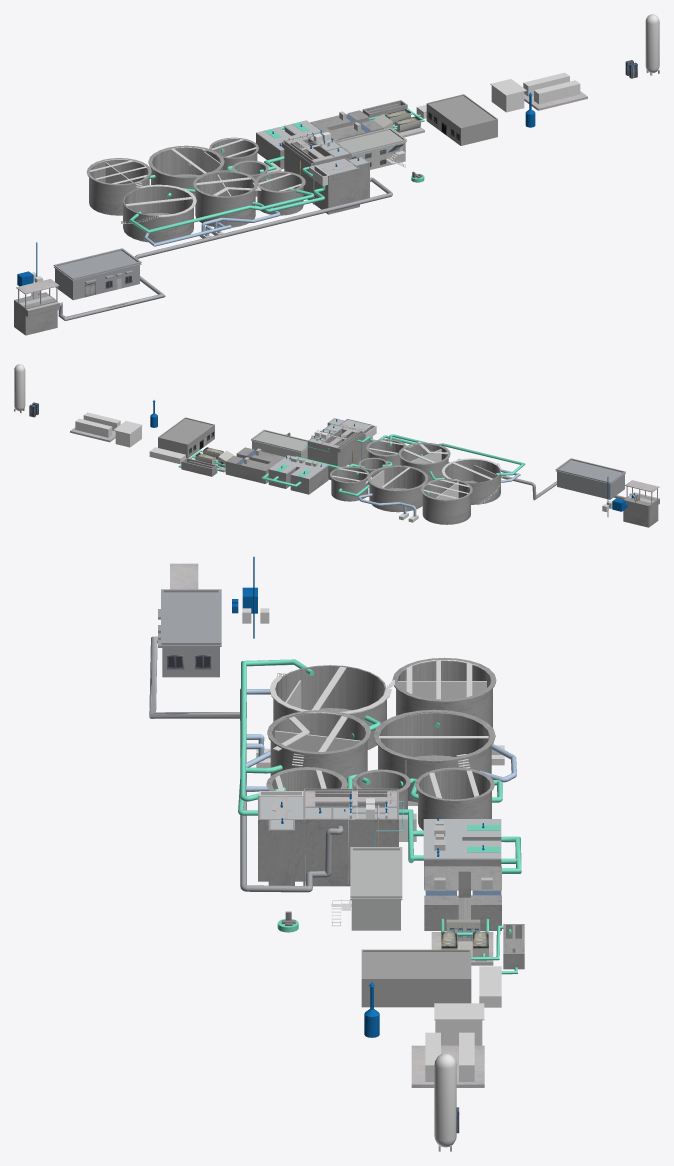
File: 大场景 - 亮色.gltf
The picture shows the model from 3 angles, top to bottom: view 1: azimuth 30°, elevation 25°; view 2: azimuth 150°, elevation 25°; view 3: azimuth 270°, elevation 25°; orthographic projection. The views are drawn at different scales.
Parts seen in each view (by area): view 1: 圆柱.1 (×7), 配电室.1, 污泥间, 扫描, 配电室, 立方体.1 (×2), 立方体.13, 立方体.2, 在线监测间, 扫描.3, 立方体.10, 立方体.8 (+1 smaller); view 2: 圆柱.1 (×7), 配电室.1, 污泥间, 立方体 (×2), 立方体.13, 配电室, 立方体.10 (×2), 在线监测间, 立方体.8, 扫描.3, 立方体.1, 出水 (+6 smaller); view 3: 圆柱.1 (×8), 污泥间, 配电室.1, 配电室, 立方体.13, 立方体.14, 扫描, 圆柱.2 (×3), 立方体.3 (×2), 在线监测间, 立方体.1, 扫描.3 (+7 smaller).
Boxes of the visible parts, box(x1,y1,x2,y2) form: 圆柱.1 (×7): box(89, 14, 659, 242); 配电室.1: box(53, 248, 141, 300); 污泥间: box(426, 94, 497, 145); 扫描: box(58, 148, 392, 320); 配电室: box(336, 127, 406, 169); 立方体.1 (×2): box(25, 72, 569, 335); 立方体.13: box(310, 110, 383, 140); 立方体.2: box(328, 168, 358, 214); 在线监测间: box(490, 79, 526, 112); 扫描.3: box(129, 188, 314, 233); 立方体.10: box(534, 80, 580, 104); 立方体.8: box(284, 141, 314, 203); 圆柱.1 (×7): box(14, 364, 500, 524); 配电室.1: box(555, 458, 625, 499); 污泥间: box(158, 417, 214, 457); 立方体 (×2): box(268, 466, 648, 527); 立方体.13: box(225, 447, 284, 483); 配电室: box(251, 429, 307, 458); 立方体.10 (×2): box(83, 412, 337, 479); 在线监测间: box(113, 421, 142, 447); 立方体.8: box(337, 431, 360, 467); 扫描.3: box(389, 434, 525, 475); 立方体.1: box(75, 418, 112, 437); 出水: box(181, 458, 217, 476); 圆柱.1 (×8): box(270, 660, 492, 1147); 污泥间: box(361, 949, 471, 1007); 配电室.1: box(158, 589, 221, 677); 配电室: box(350, 847, 402, 930); 立方体.13: box(424, 866, 501, 930); 立方体.14: box(306, 818, 398, 886); 扫描: box(149, 636, 343, 892); 圆柱.2 (×3): box(267, 657, 496, 762); 立方体.3 (×2): box(411, 840, 501, 1087); 在线监测间: box(434, 1003, 484, 1045); 立方体.1: box(258, 819, 305, 881); 扫描.3: box(240, 659, 312, 801).
Size of the model in its own units: 786 by 87.75 by 222.
Materials: 29 (11 with a texture image).
